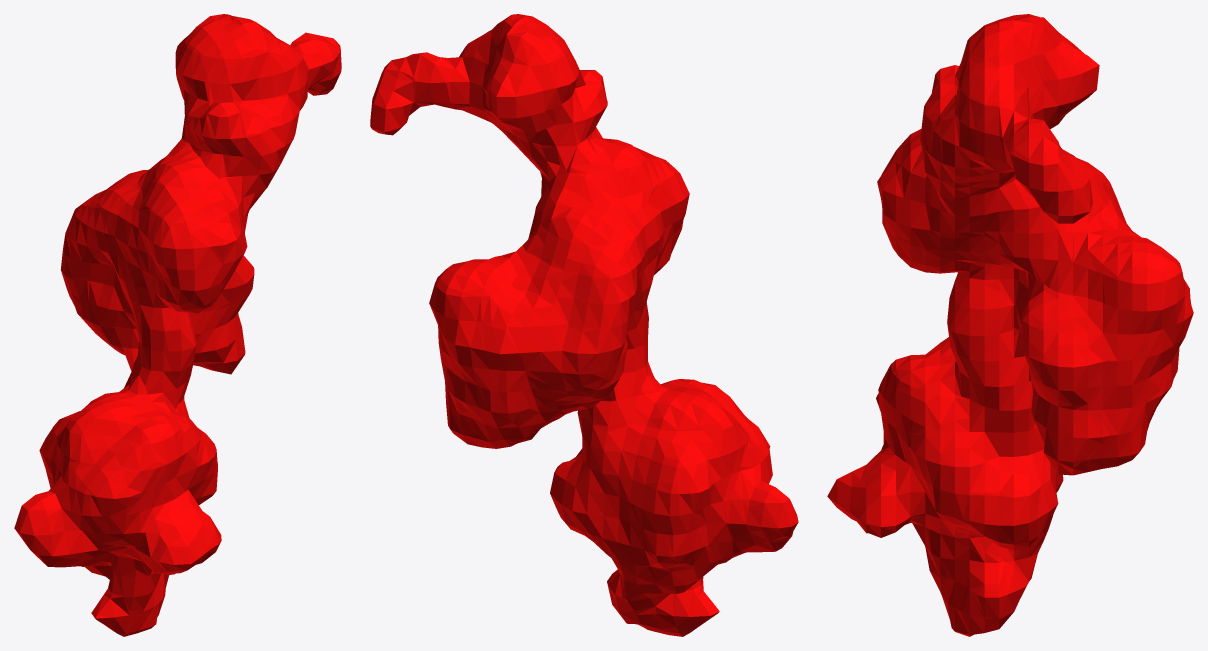
File: tyrR_coarse.dae
3 renders of one model, left to right at view 1: azimuth 30°, elevation 25°; view 2: azimuth 150°, elevation 25°; view 3: azimuth 270°, elevation 25°, orthographic. The views are drawn at different scales.
Parts seen in each view (by area): view 1: tyrR; view 2: tyrR; view 3: tyrR.
Part boxes in pixels (x1=…): tyrR: x1=14, y1=14, x2=341, y2=636; tyrR: x1=370, y1=14, x2=798, y2=636; tyrR: x1=827, y1=14, x2=1193, y2=636.
Bounding box in the file's own units: 91.39 × 138 × 67.55.
